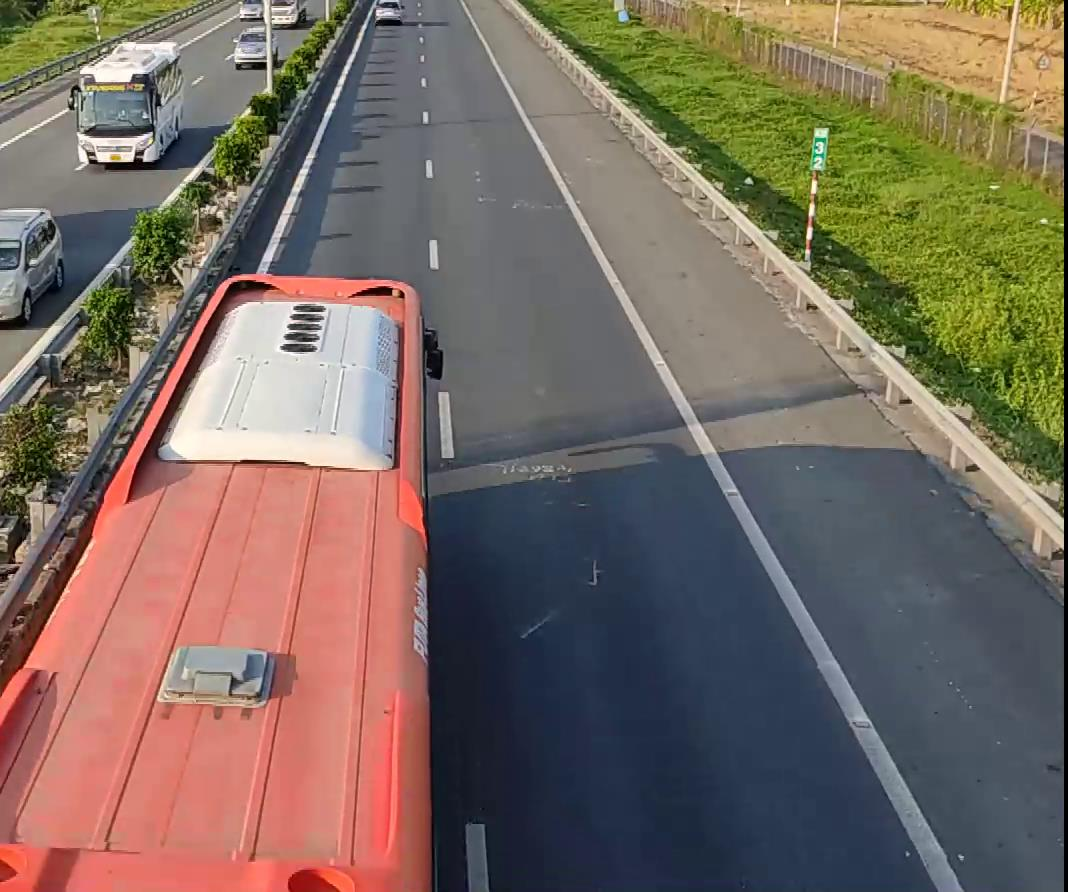bus: (0, 265, 435, 892), (71, 38, 183, 166)
car: (0, 206, 64, 326)
